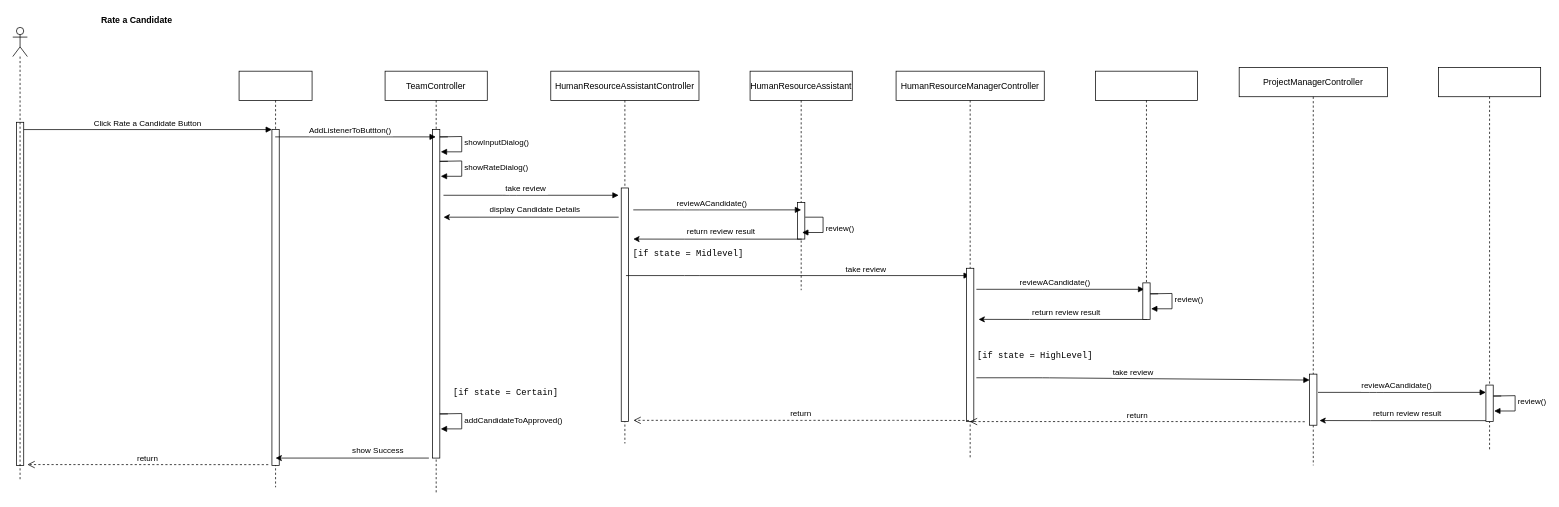
Image size: 1559x507. Some labels were removed from this diagram. Each missing label, with the box of its shape:
HumanResourceManager: (1095, 70, 1198, 290)
ProjectManager: (1438, 67, 1541, 451)
TeamView: (238, 70, 312, 487)
